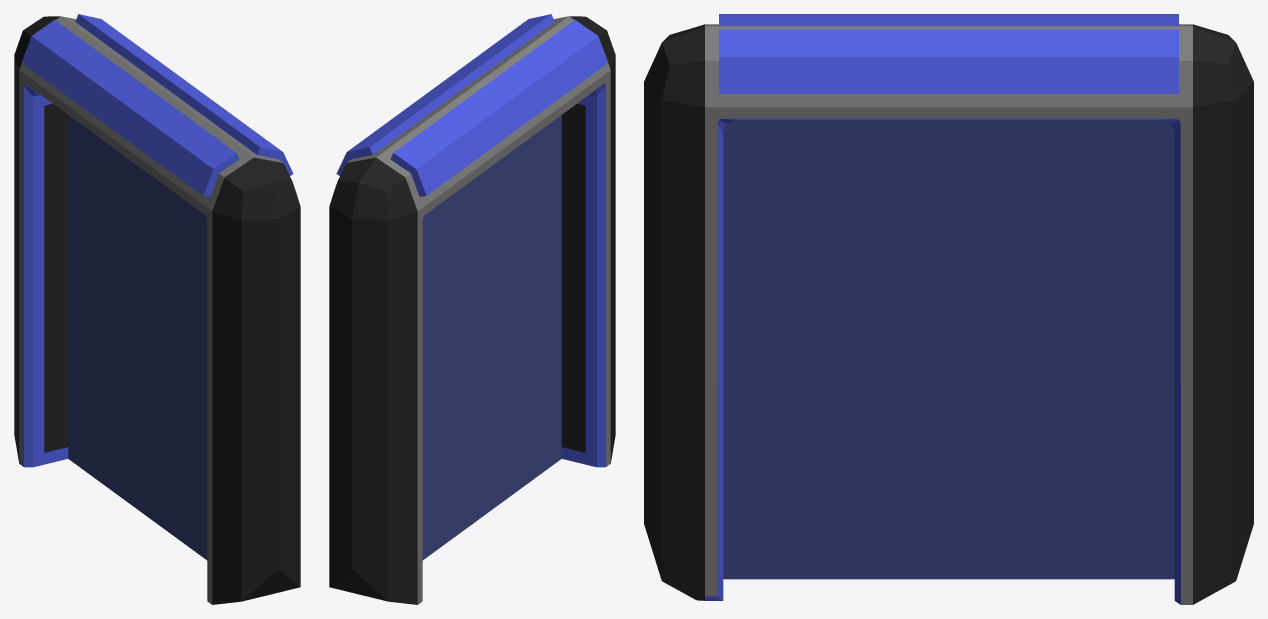
The model's file is gate.fbx.
3 views of the same model, side by side, from view 1: azimuth 30°, elevation 25°; view 2: azimuth 150°, elevation 25°; view 3: azimuth 270°, elevation 25° (orthographic). The views are drawn at different scales.
Parts seen in each view (by area): view 1: gate, gate.001; view 2: gate, gate.001; view 3: gate.001, gate.
Boxes of the visible parts, box(x1,y1,x2,y2) form: gate: box(14, 14, 300, 604); gate.001: box(68, 115, 207, 560); gate: box(329, 14, 615, 604); gate.001: box(422, 115, 561, 560); gate.001: box(723, 120, 1174, 579); gate: box(644, 14, 1253, 604).
Size of the model in its own units: 216 by 1008 by 1000.
